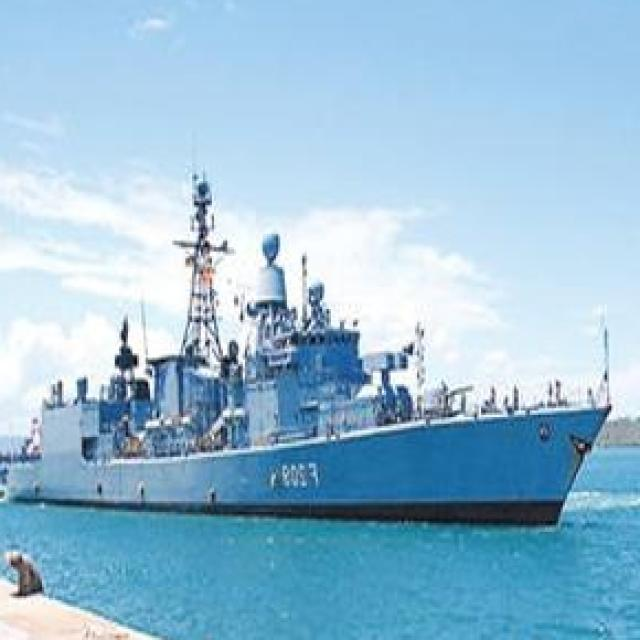navalvessels: (0, 161, 616, 523)
